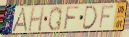A: (11, 7, 29, 33)
D: (81, 5, 99, 31)
F: (62, 6, 81, 31), (98, 4, 116, 30)
H: (27, 6, 46, 33)
Q: (47, 6, 63, 33)
